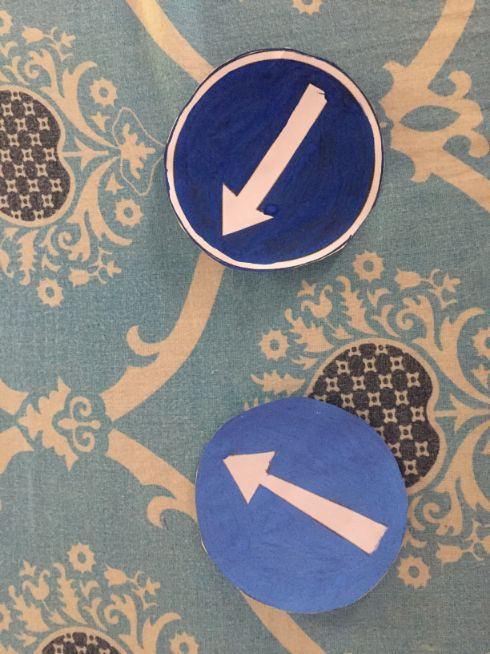go-stright: (168, 47, 386, 265)
keep-left: (195, 397, 413, 615)
